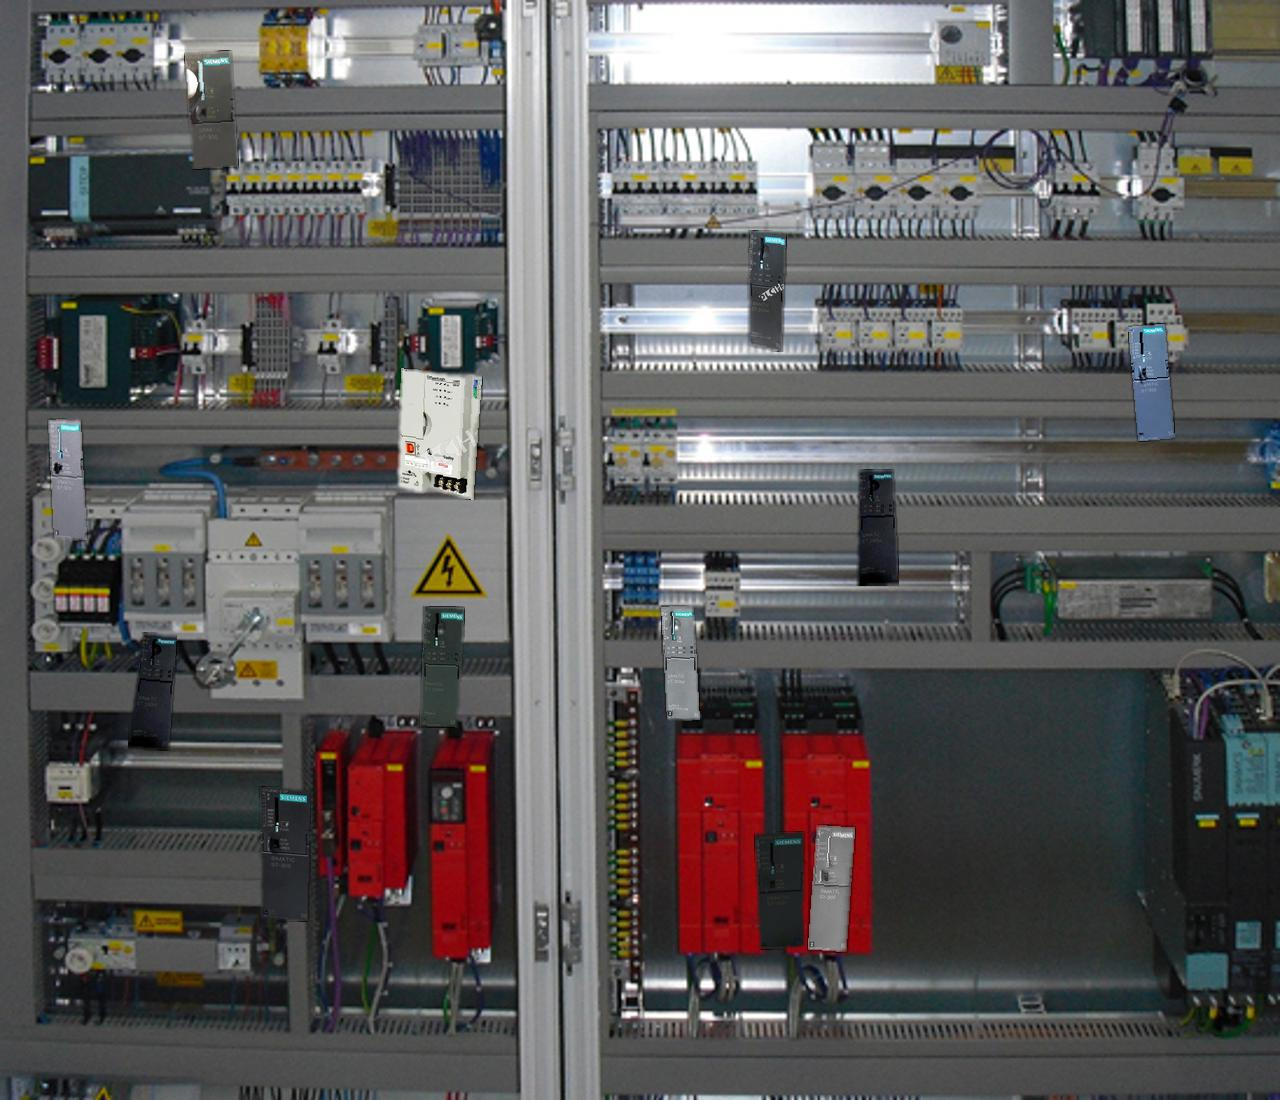AllenBradley: (398, 368, 481, 499)
Siemens: (260, 787, 308, 920), (185, 51, 237, 168), (808, 825, 854, 951), (755, 832, 804, 948), (1128, 324, 1174, 440), (49, 420, 85, 539)
